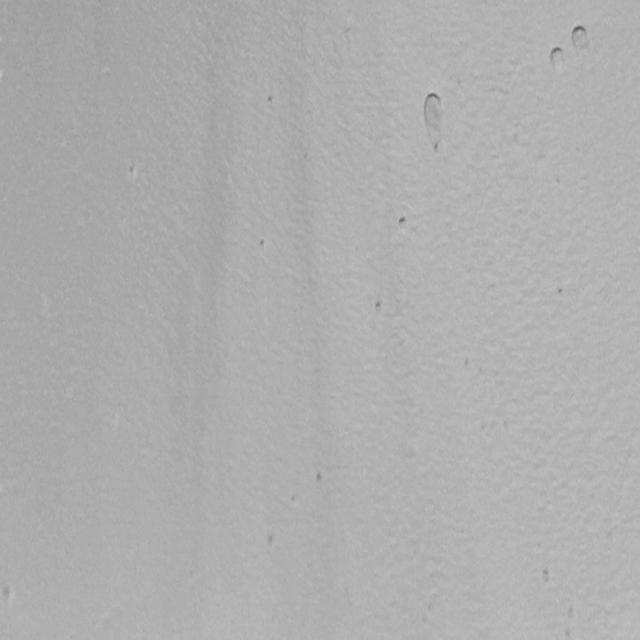pin holes: (414, 88, 449, 157), (568, 23, 591, 52), (547, 45, 568, 73), (537, 566, 558, 591), (393, 211, 413, 234), (263, 531, 282, 554), (371, 296, 390, 319), (1, 584, 17, 610), (264, 91, 280, 113), (312, 468, 329, 488), (257, 235, 271, 252), (127, 162, 140, 179)
